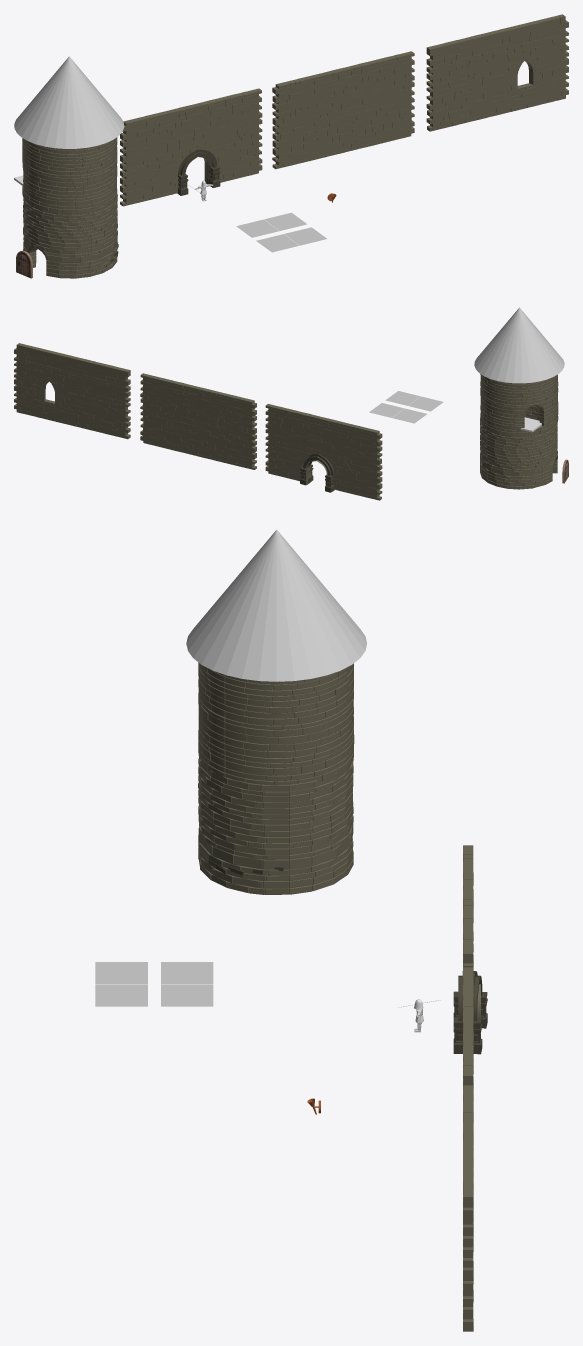
Rendered from bunc of assets 1.fbx.
3 views of the same model, one above another, from view 1: azimuth 30°, elevation 25°; view 2: azimuth 150°, elevation 25°; view 3: azimuth 270°, elevation 25° (orthographic). The views are drawn at different scales.
Visible parts, largest first — view 1: Wall.001, Wall.002, Wall, Roof, Tower2, Tower1, ArcDoor, OutsideFloorPlane.001, InsideFloorPlane.001, OutsideFloorPlane, InsideFloorPlane, SingleDoor; view 2: Wall.001, Wall.002, Wall, Tower1, Roof, Tower2, ArcDoor2, OutsideFloorPlane, InsideFloorPlane.001, OutsideFloorPlane.001, InsideFloorPlane; view 3: Tower1, Roof, Tower2, Wall.002, Wall, Wall.001, InsideFloorPlane.001, OutsideFloorPlane.001, OutsideFloorPlane, InsideFloorPlane.
Boxes of the visible parts, box(x1,y1,x2,y2) form: Wall.001: box(272, 51, 414, 169); Wall.002: box(426, 14, 568, 131); Wall: box(120, 88, 262, 206); Roof: box(14, 56, 124, 148); Tower2: box(22, 137, 117, 213); Tower1: box(23, 189, 117, 278); ArcDoor: box(177, 149, 220, 195); OutsideFloorPlane.001: box(256, 234, 299, 252); InsideFloorPlane.001: box(284, 227, 326, 245); OutsideFloorPlane: box(236, 219, 279, 237); InsideFloorPlane: box(264, 212, 306, 230); SingleDoor: box(16, 250, 32, 278); Wall.001: box(140, 373, 256, 469); Wall.002: box(14, 343, 130, 439); Wall: box(265, 404, 382, 500); Tower1: box(480, 406, 557, 489); Roof: box(474, 307, 564, 383); Tower2: box(480, 374, 558, 435); ArcDoor2: box(300, 454, 334, 492); OutsideFloorPlane: box(392, 408, 426, 423); InsideFloorPlane.001: box(385, 391, 420, 405); OutsideFloorPlane.001: box(408, 396, 443, 411); InsideFloorPlane: box(369, 403, 403, 417); Tower1: box(198, 758, 353, 894); Roof: box(186, 529, 366, 681); Tower2: box(198, 662, 354, 785); Wall.002: box(463, 1088, 473, 1331); Wall: box(463, 845, 473, 1065); Wall.001: box(463, 967, 473, 1176); InsideFloorPlane.001: box(95, 984, 147, 1006); OutsideFloorPlane.001: box(95, 962, 147, 984); OutsideFloorPlane: box(161, 962, 213, 984); InsideFloorPlane: box(161, 984, 213, 1006).
Size of the model in its own units: 18003 by 6270 by 6104.
